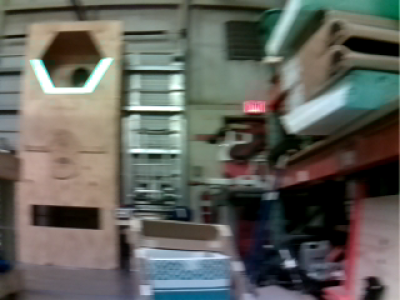target: (30, 57, 114, 94)
